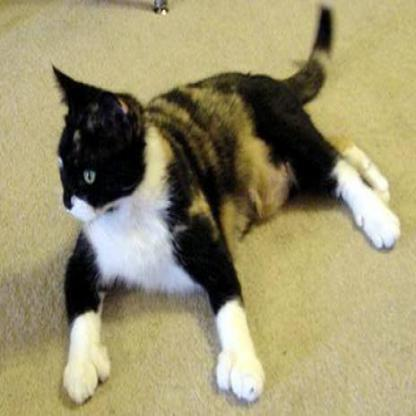cat: (42, 48, 391, 366)
